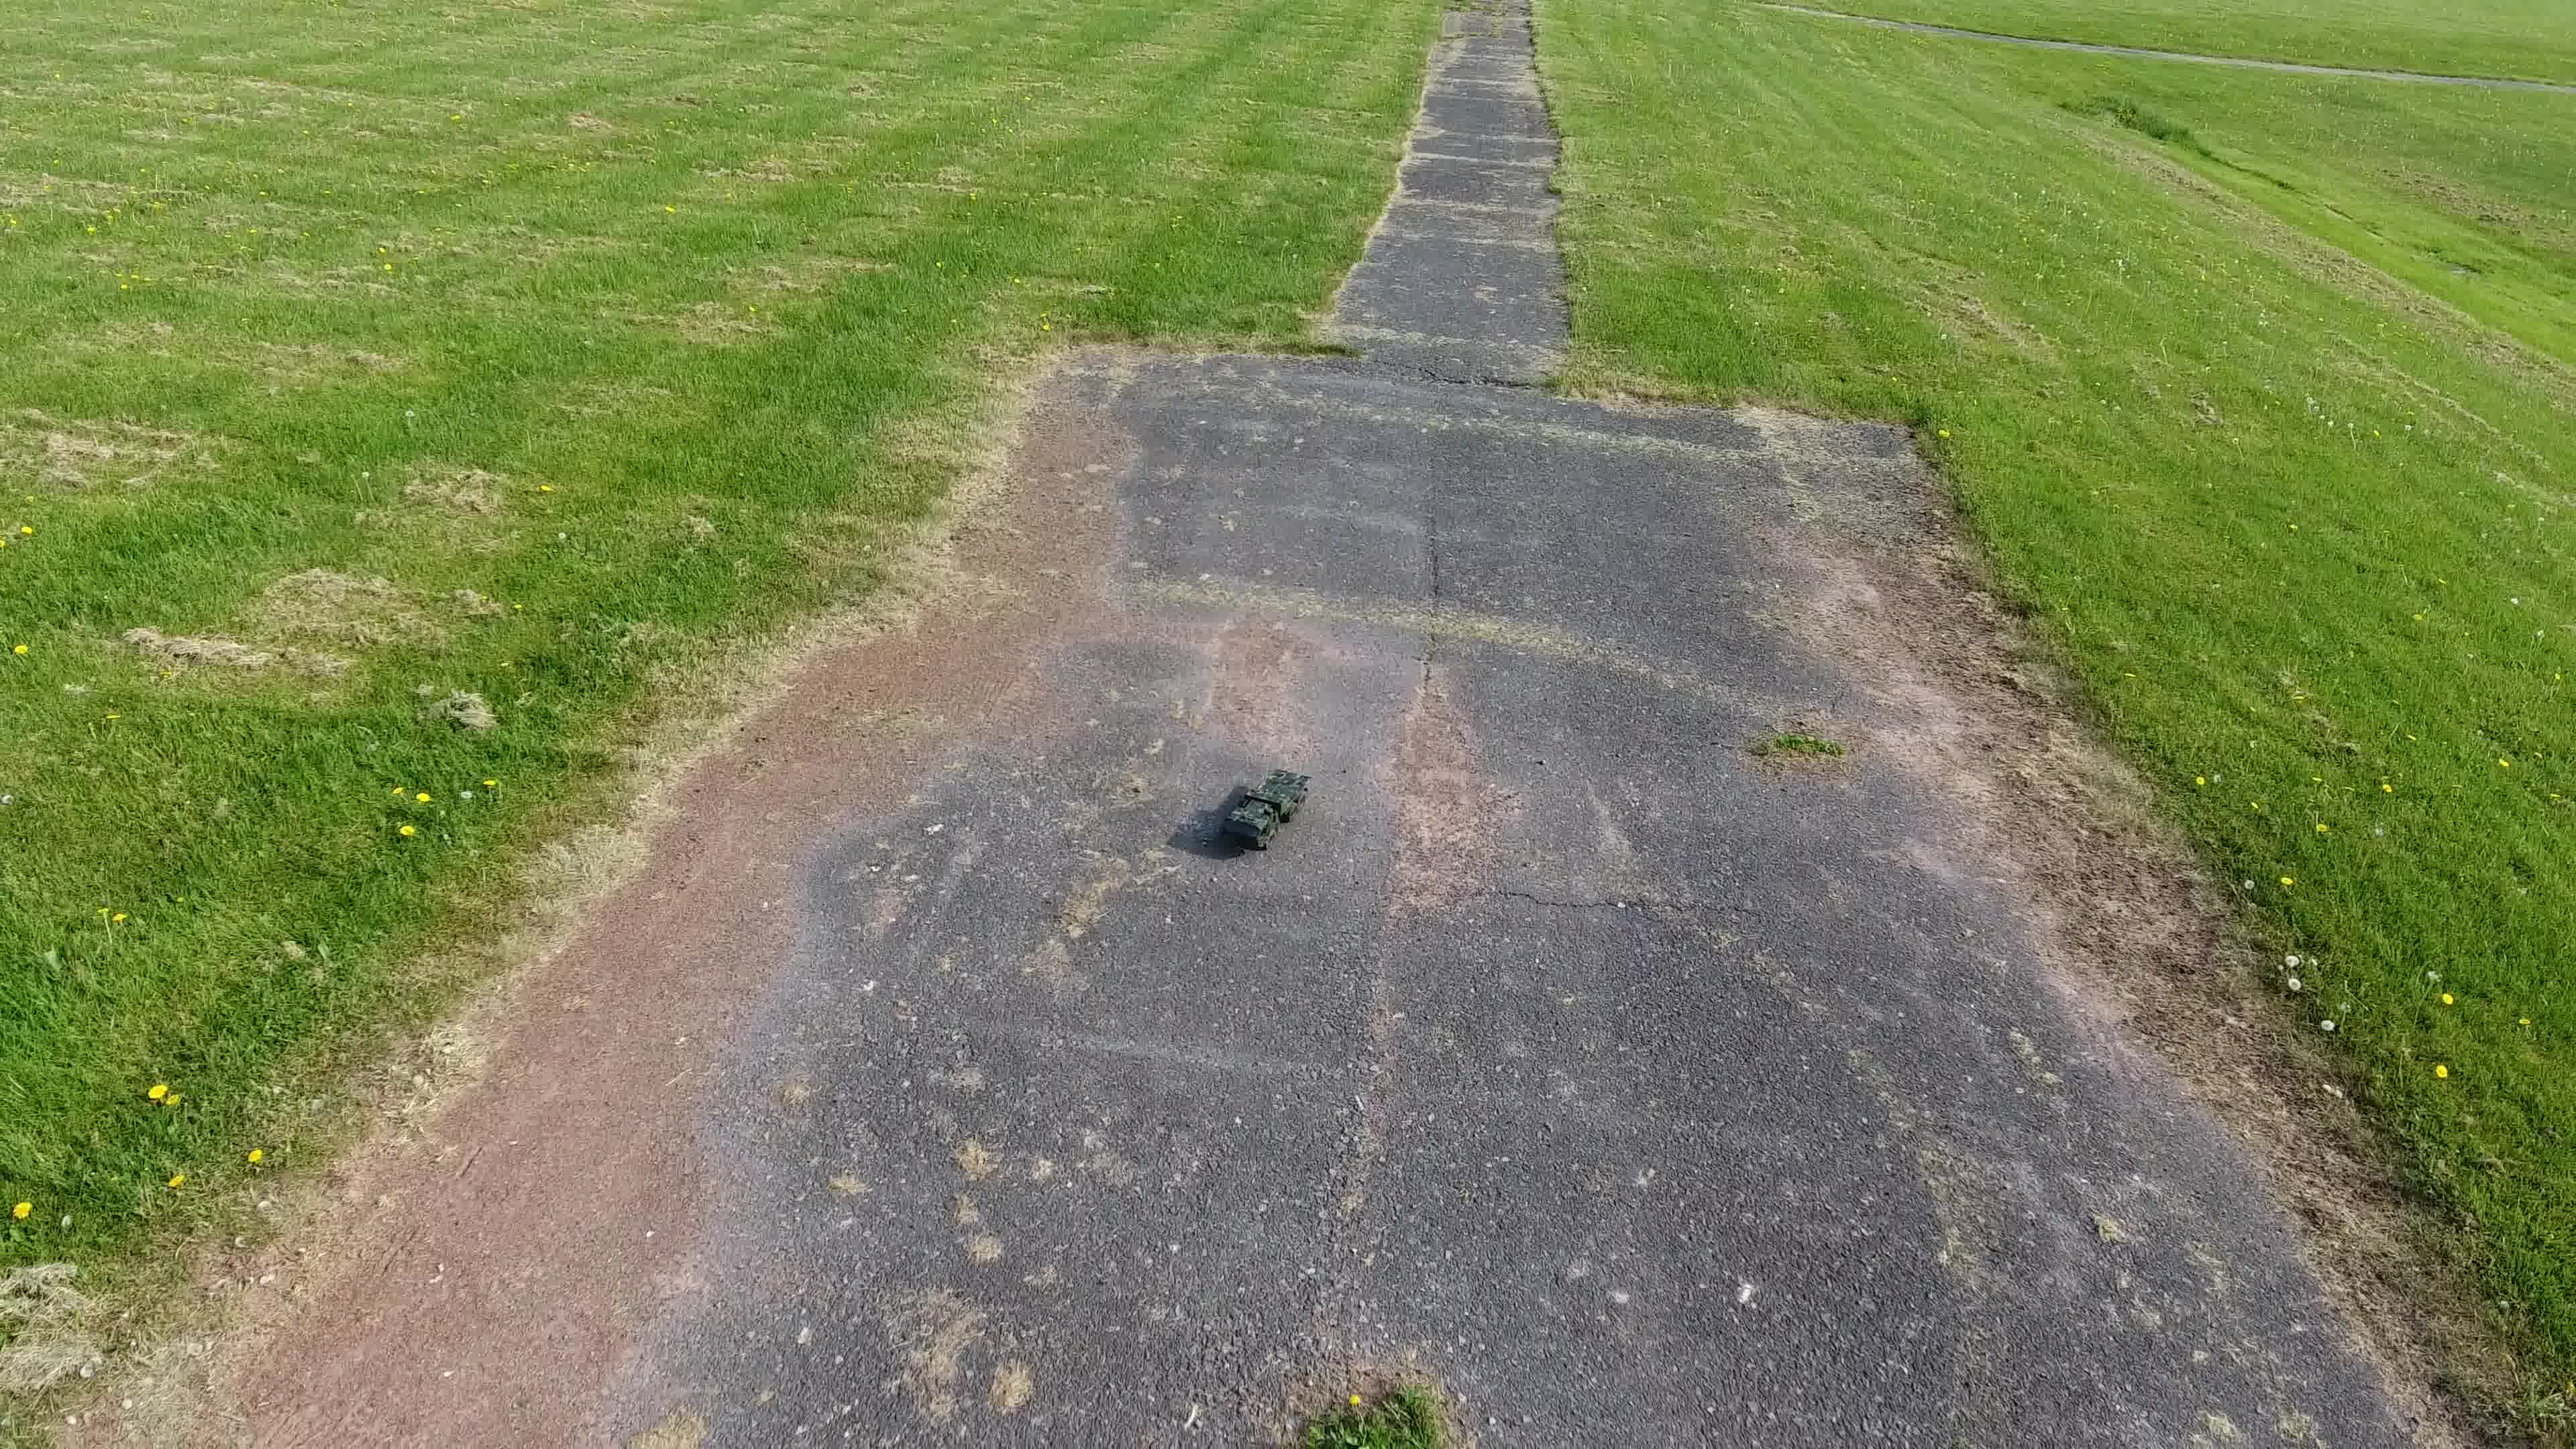transporter9_camo: (1217, 768, 1316, 855)
